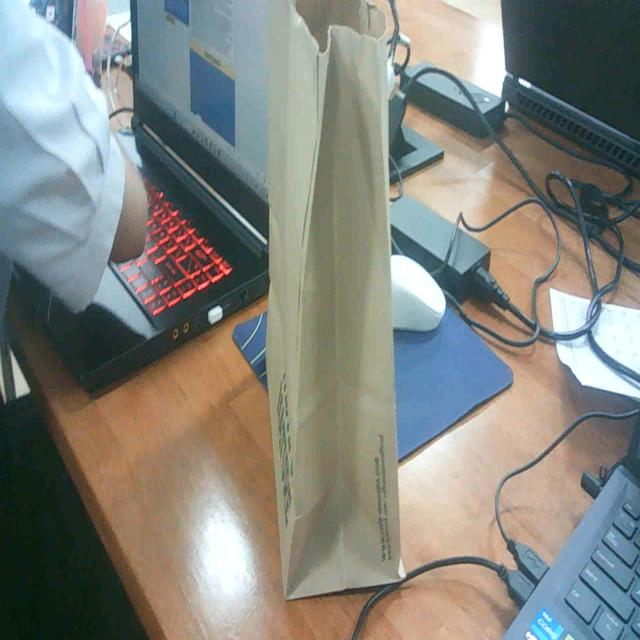bag: (253, 36, 430, 614)
